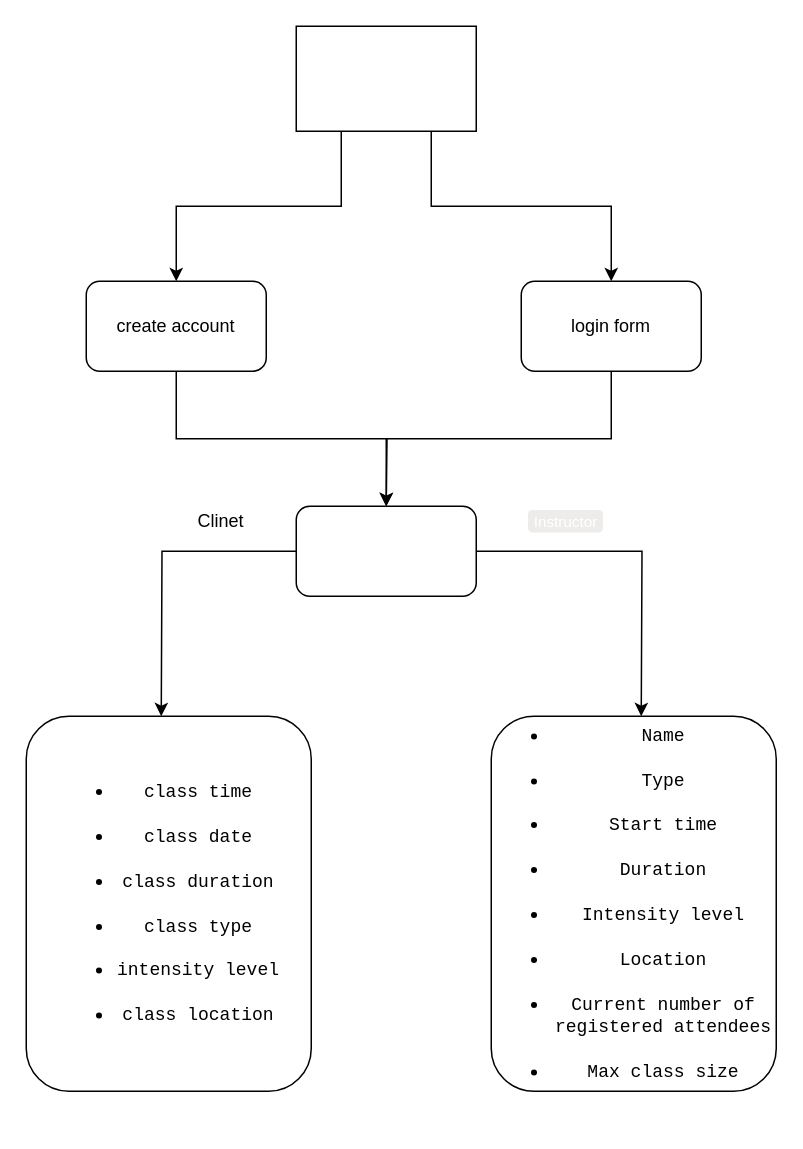
Image size: 803x1149. Some labels were removed from this diagram. Here are the shapes that lost their labels. From the top down, the box of each, then its label:
(295, 25, 476, 131): Home Page
(295, 505, 476, 596): login page for both
